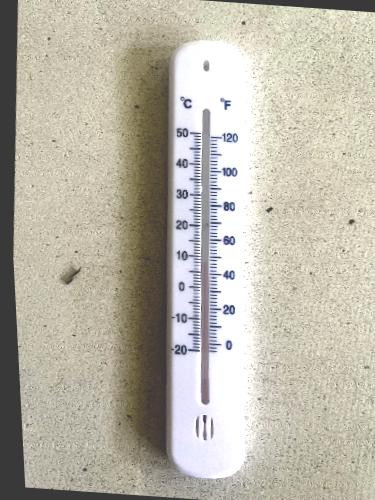thermo: (164, 37, 251, 485)
